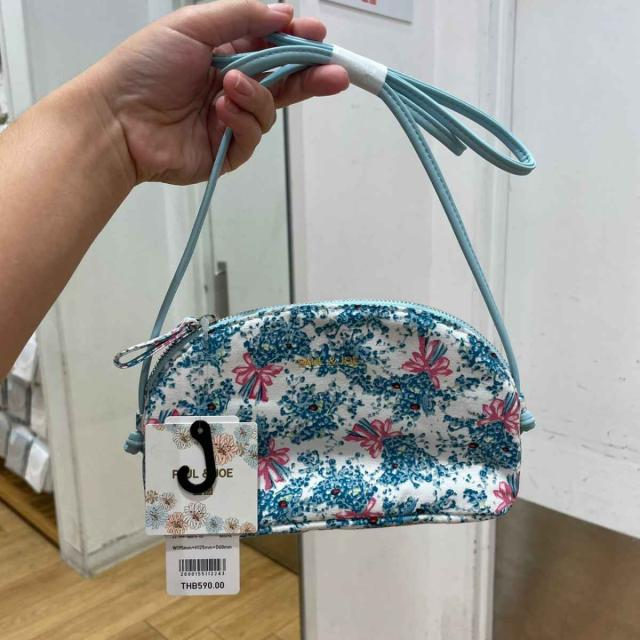handbag: (137, 275, 535, 544)
